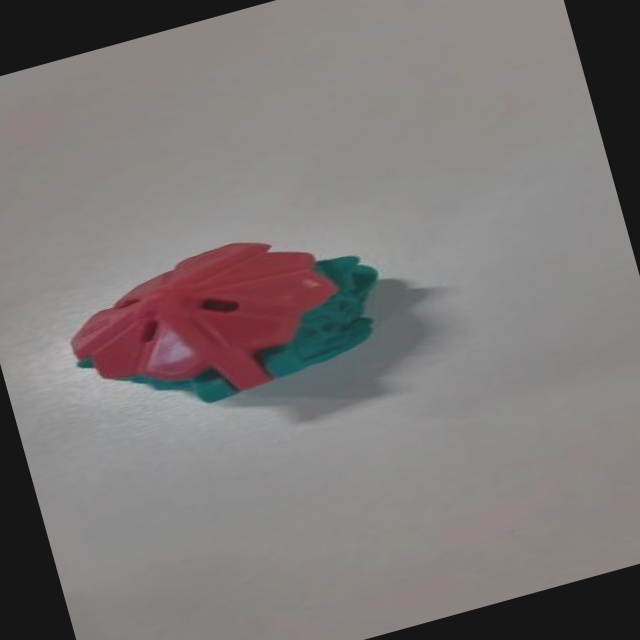House: (43, 206, 408, 442)
